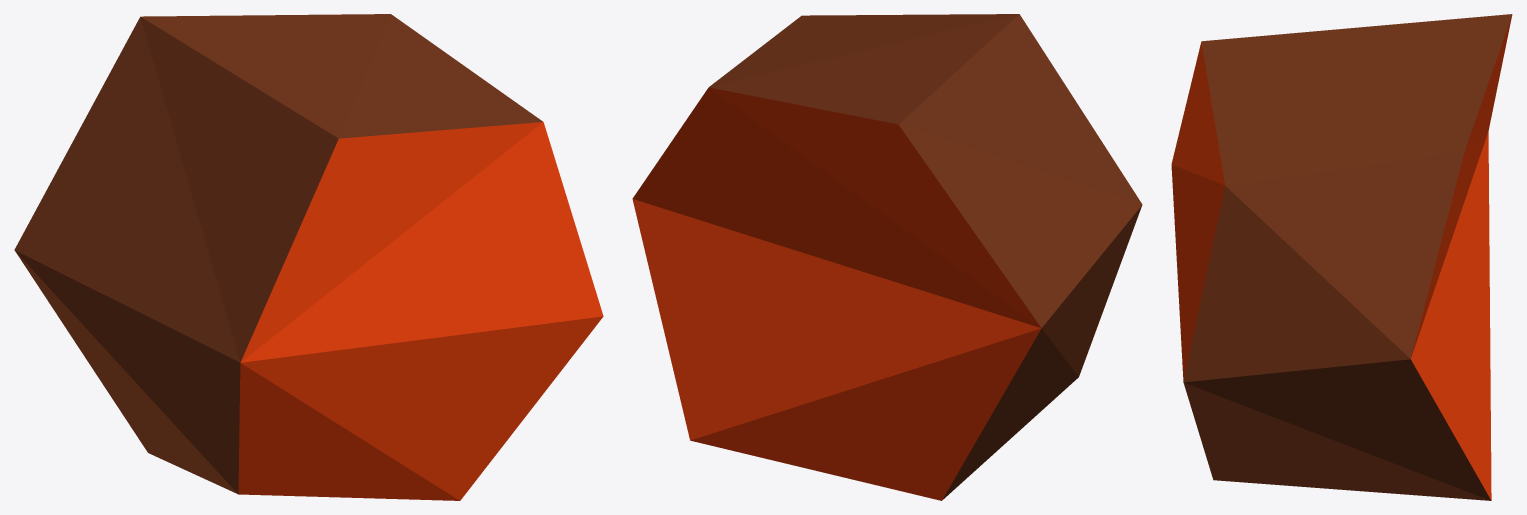
Rendered from meteor.obj.
3 views of the same model, side by side, from view 1: azimuth 30°, elevation 25°; view 2: azimuth 150°, elevation 25°; view 3: azimuth 270°, elevation 25° (orthographic). The views are drawn at different scales.
Parts seen in each view (by area): view 1: meteor; view 2: meteor; view 3: meteor.
Boxes of the visible parts, x1,y1,x2,y2 form: meteor: [14, 14, 603, 500]; meteor: [632, 14, 1142, 500]; meteor: [1171, 14, 1512, 500].
Size of the model in its own units: 1.74 by 1.45 by 1.14.
